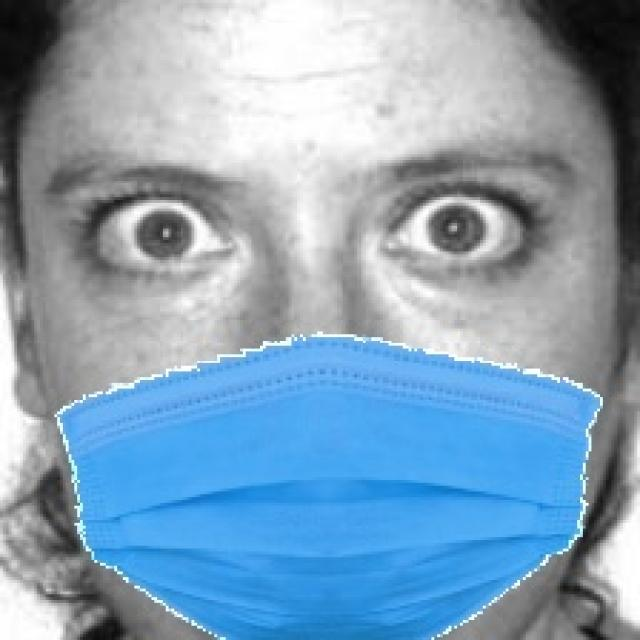mask: (33, 348, 618, 640)
